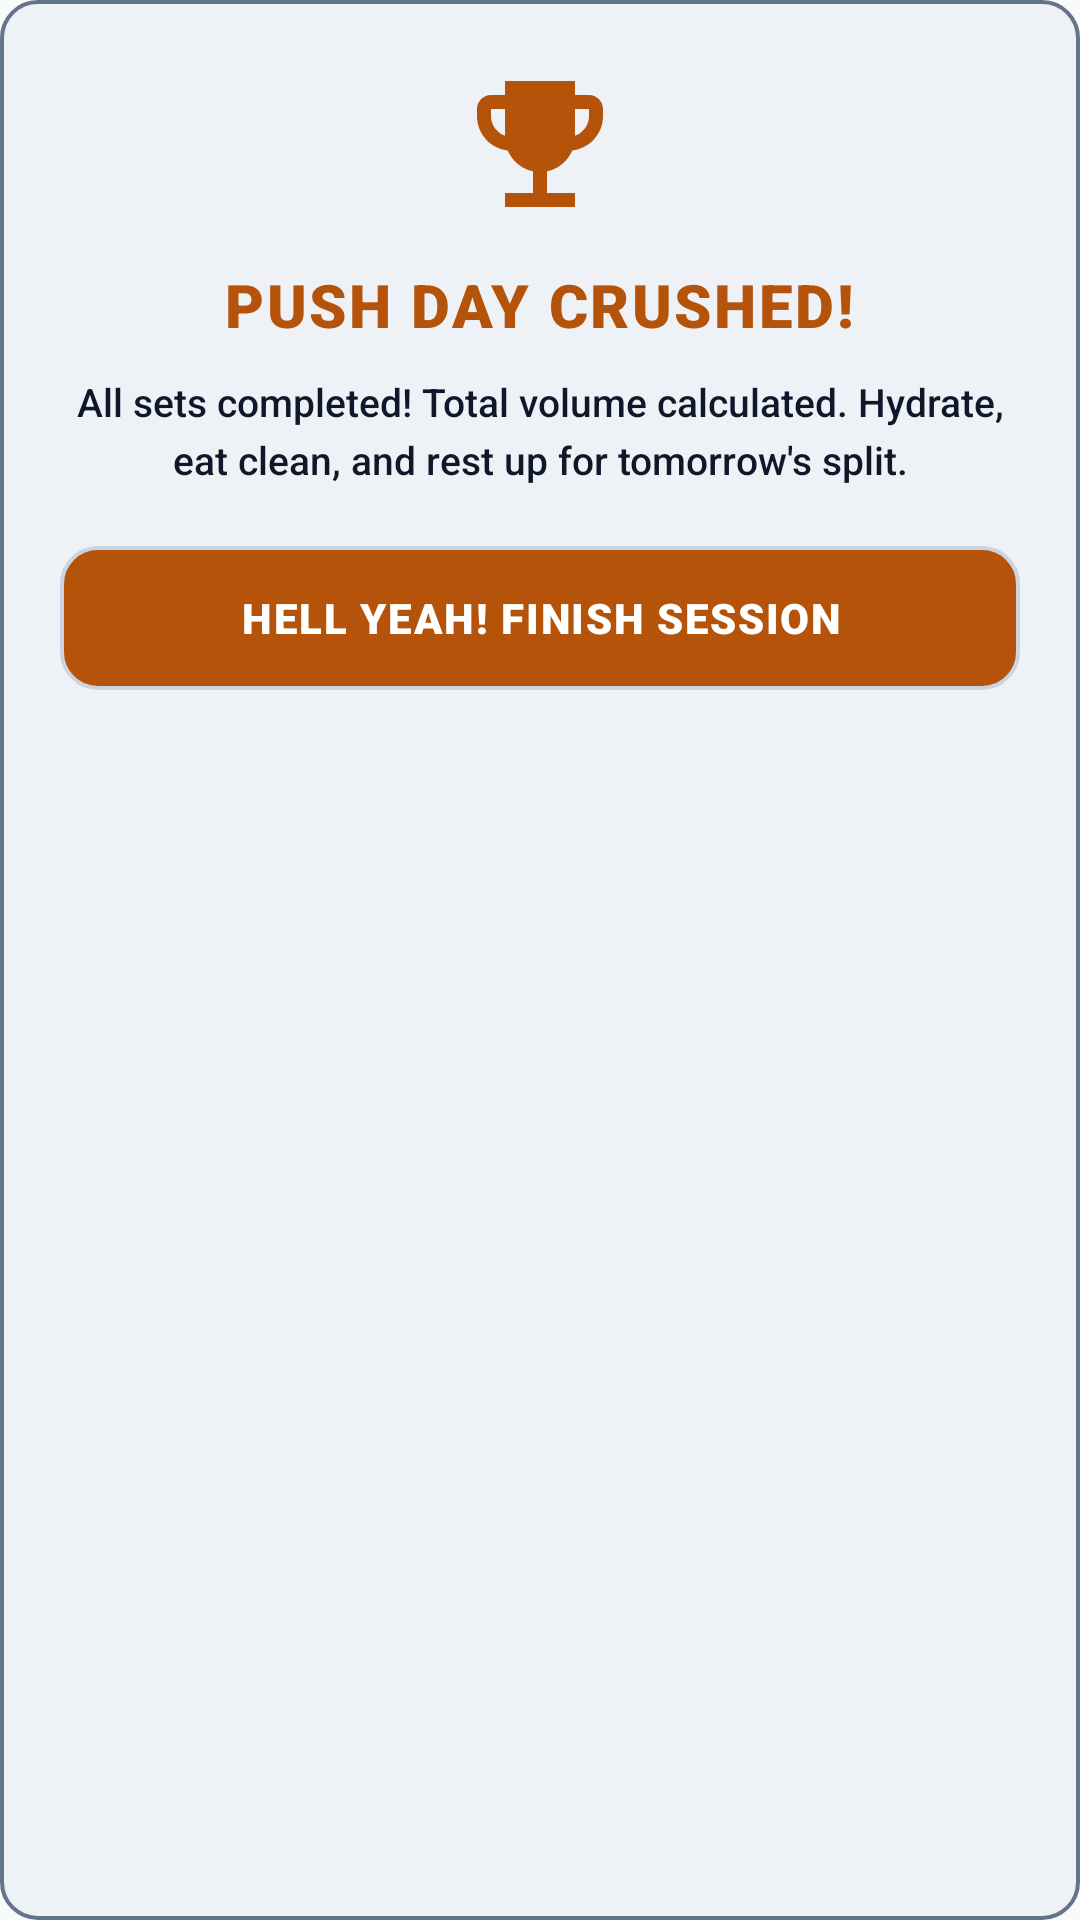

Locate icon controls on the screen. Image size 1080px×1920px, boxes as BBox(x1, y1, x2, y2).
trophy: BBox(477, 81, 603, 207)
